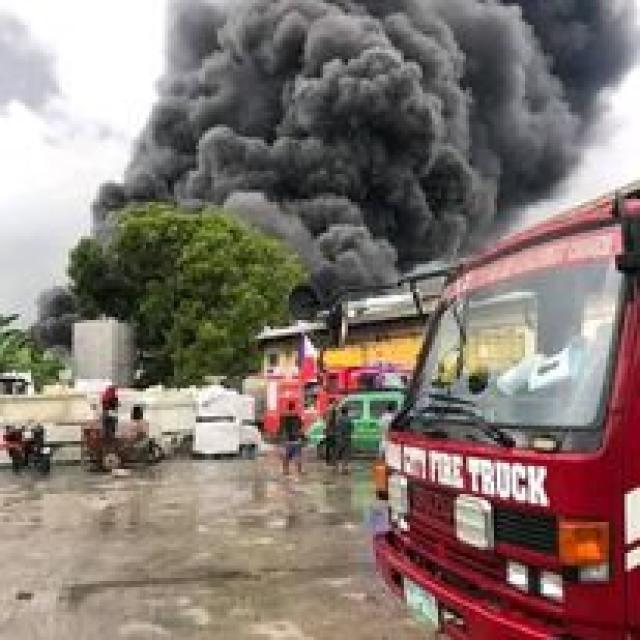Smoke: (161, 0, 632, 203), (252, 190, 474, 278), (36, 286, 72, 346)
